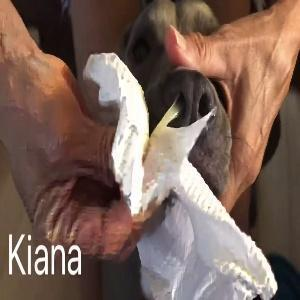nasal_discharge: (149, 72, 191, 141)
